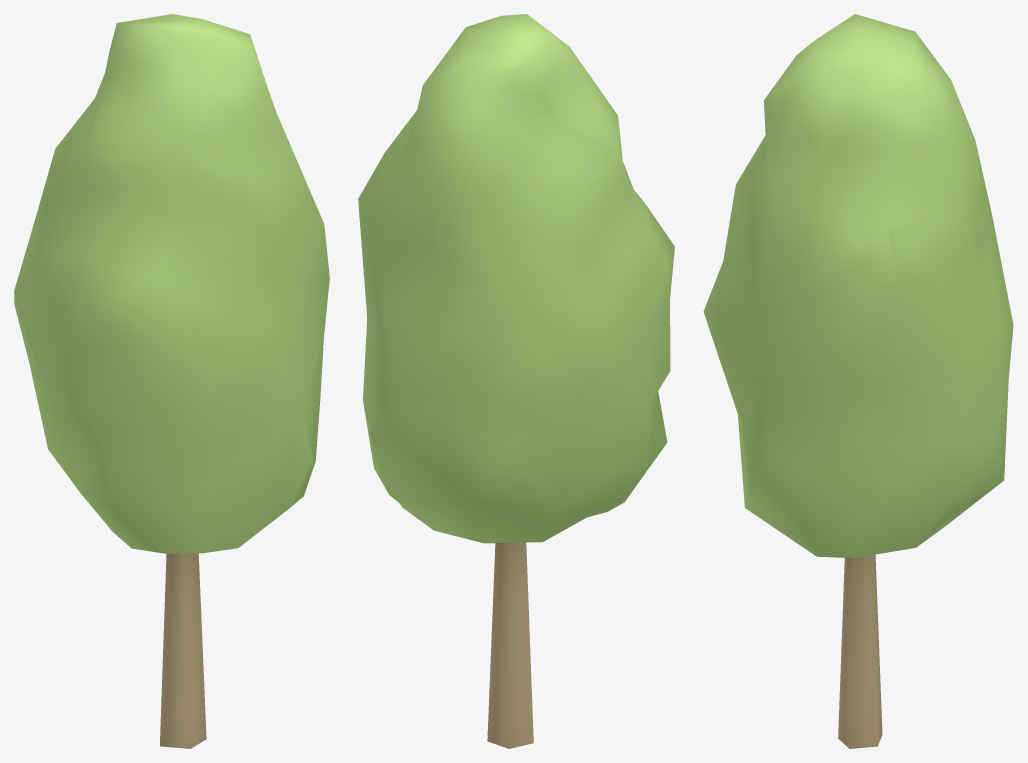
3 views of the same model, side by side, from view 1: azimuth 30°, elevation 25°; view 2: azimuth 150°, elevation 25°; view 3: azimuth 270°, elevation 25° (orthographic). The views are drawn at different scales.
Parts seen in each view (by area): view 1: Tree; view 2: Tree; view 3: Tree.
Boxes of the visible parts, x1,y1,x2,y2 form: Tree: [14, 14, 329, 748]; Tree: [358, 14, 674, 748]; Tree: [703, 14, 1013, 748].
Size of the model in its own units: 7.58 by 19.39 by 7.7.
1 material, 1 textured.
